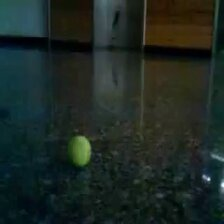tennis: (68, 135, 91, 166)
